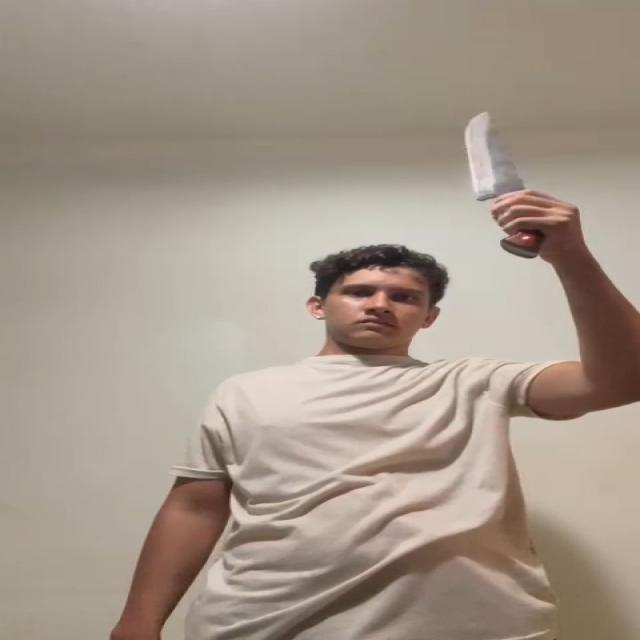knife: (462, 113, 528, 197)
